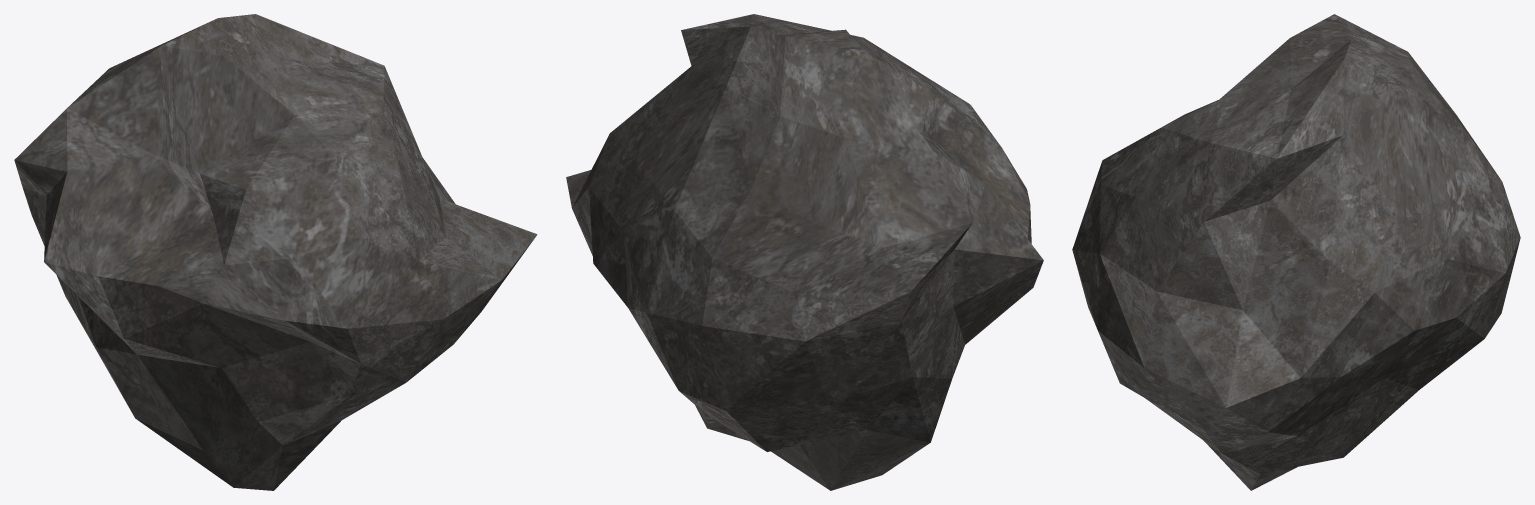
The model's file is Asteroid_04_LOD1.FBX.
3 renders of one model, left to right at view 1: azimuth 30°, elevation 25°; view 2: azimuth 150°, elevation 25°; view 3: azimuth 270°, elevation 25°, orthographic. The views are drawn at different scales.
Visible parts, largest first — view 1: Asteriod_04_LOD1; view 2: Asteriod_04_LOD1; view 3: Asteriod_04_LOD1.
Boxes of the visible parts, x1,y1,x2,y2 form: Asteriod_04_LOD1: (14, 14, 537, 490); Asteriod_04_LOD1: (566, 14, 1043, 490); Asteriod_04_LOD1: (1072, 14, 1520, 490).
Bounding box in the file's own units: 847 × 769 × 698.
Materials: 1 (1 with a texture image).
